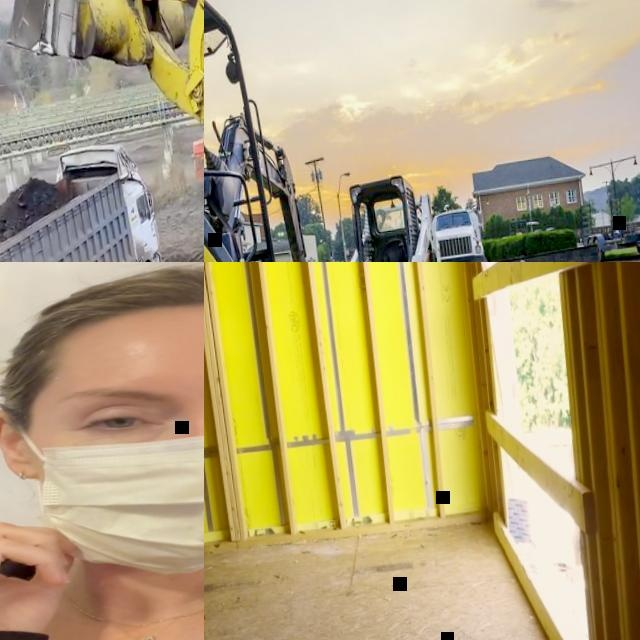Mask: (26, 370, 204, 573)
NO-Hardhat: (18, 262, 204, 368)
NO-Safety Vest: (0, 540, 204, 640)
Person: (0, 262, 204, 640)
machinery: (0, 0, 204, 262), (204, 0, 357, 262), (0, 136, 175, 262), (300, 170, 450, 262), (429, 205, 486, 262)
